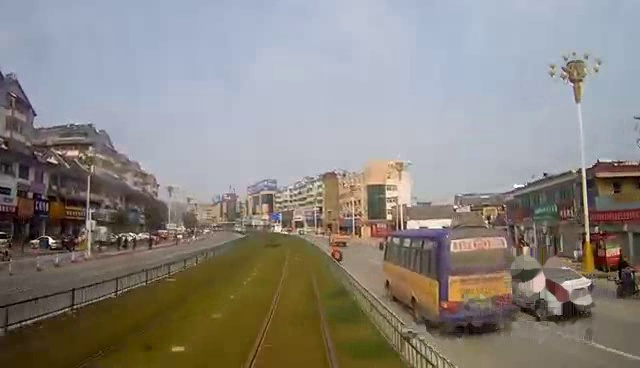car: (378, 230, 507, 325), (508, 267, 595, 311), (26, 231, 62, 251)
